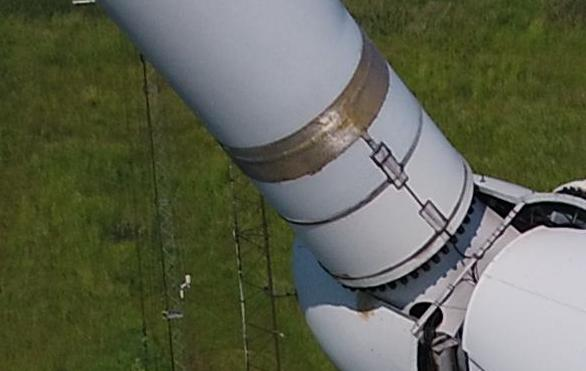damage: (354, 291, 376, 320)
